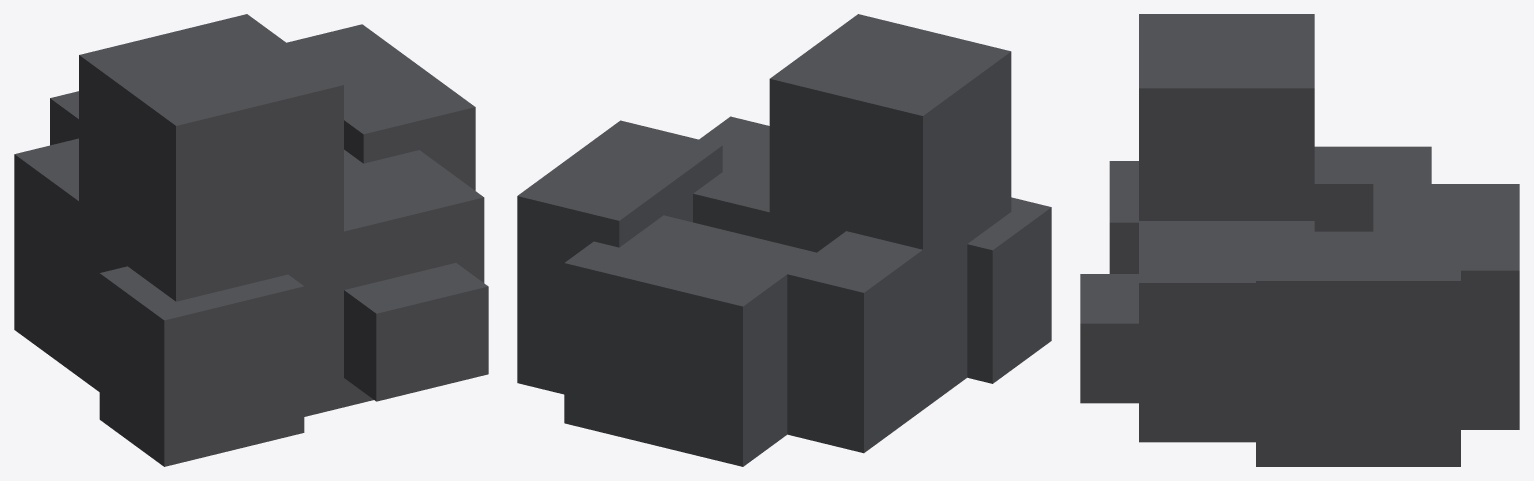
File: rock_3.obj
3 views of the same model, side by side, from view 1: azimuth 30°, elevation 25°; view 2: azimuth 150°, elevation 25°; view 3: azimuth 270°, elevation 25° (orthographic). The views are drawn at different scales.
Bounding box in the file's own units: 14 × 11 × 15.
1 material, 1 textured.
